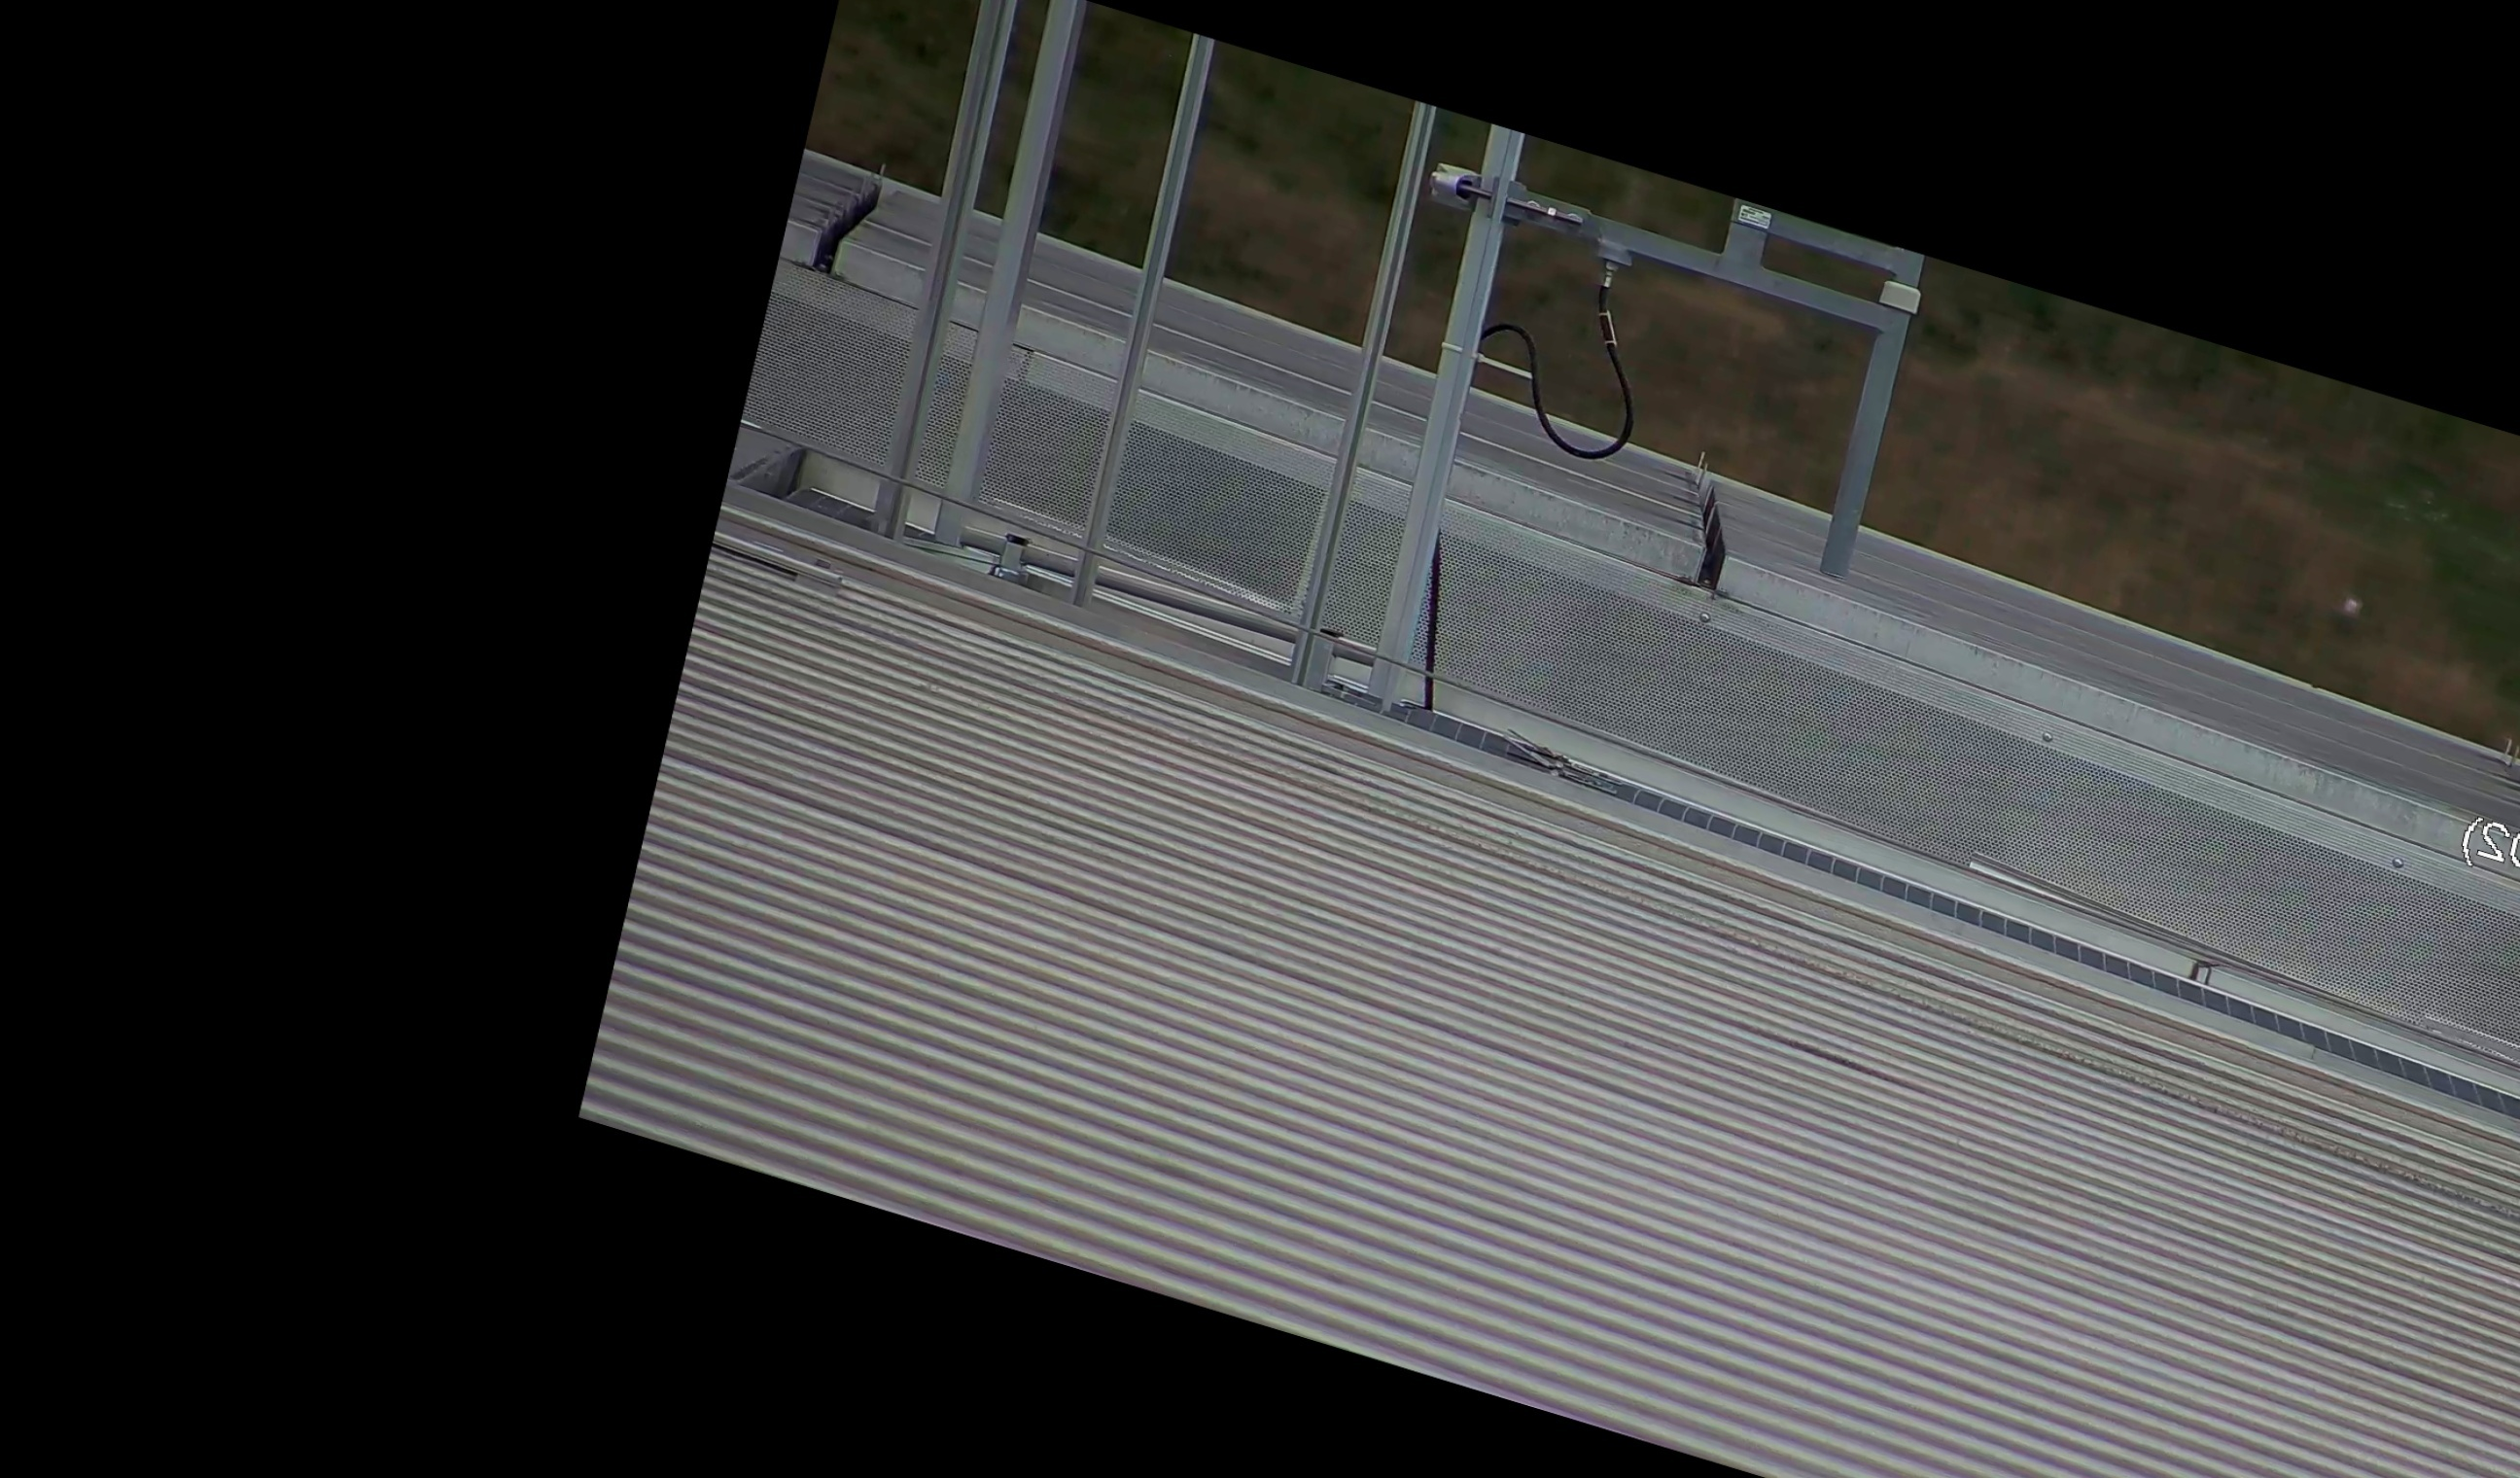Other: (781, 143, 893, 294)
